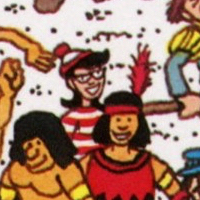wenda: (56, 43, 108, 106)
